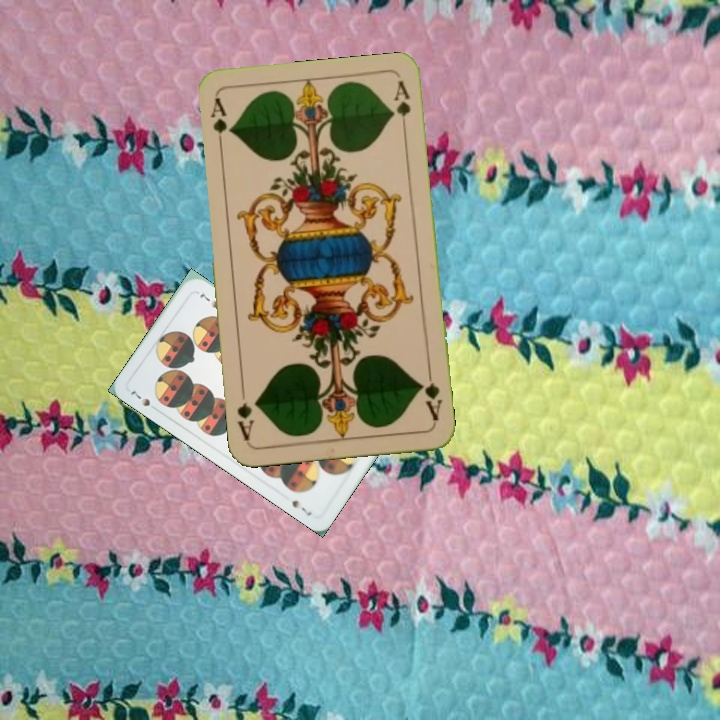GA: (416, 365, 445, 424), (206, 93, 234, 153)
S7: (126, 385, 153, 409)
